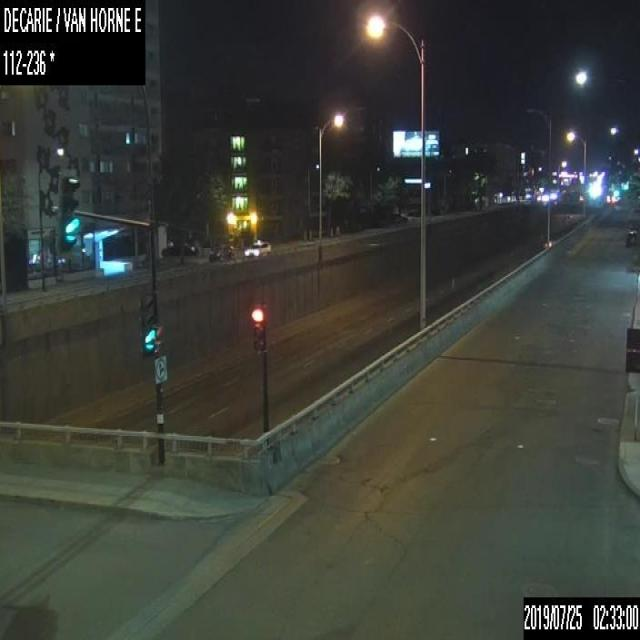vehicle: (244, 239, 270, 256), (166, 241, 197, 255), (208, 244, 233, 260), (624, 224, 638, 245)
